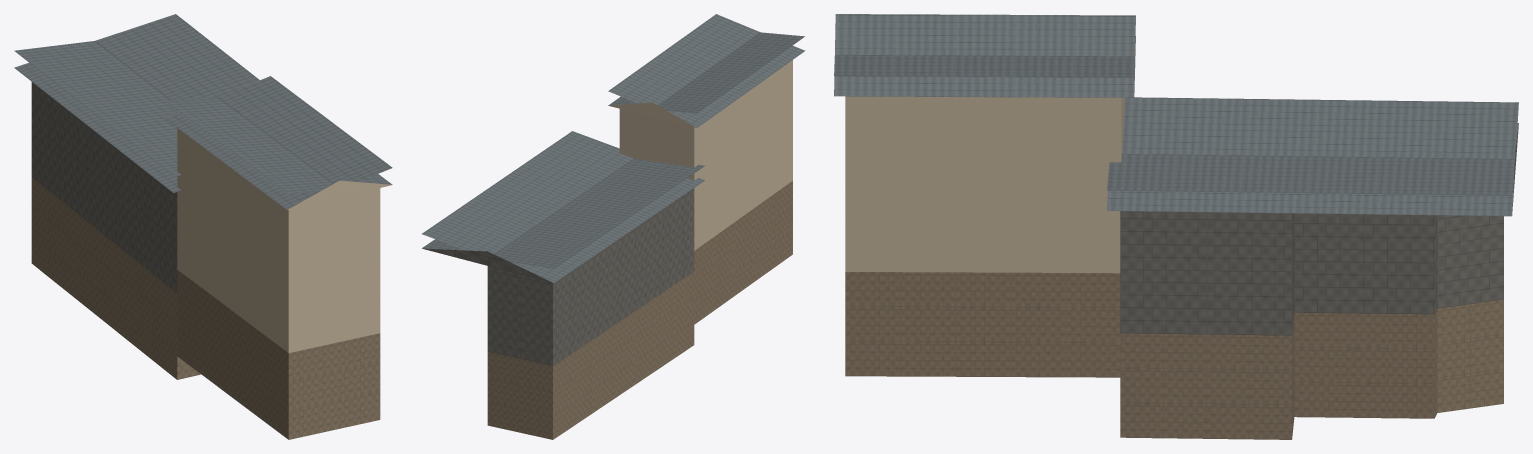
The model's file is bld_c33_-38_448.gltf.
3 renders of one model, left to right at view 1: azimuth 30°, elevation 25°; view 2: azimuth 150°, elevation 25°; view 3: azimuth 270°, elevation 25°, orthographic. The views are drawn at different scales.
Visible parts, largest first — view 1: bld_c33_-38_448; view 2: bld_c33_-38_448; view 3: bld_c33_-38_448.
Boxes of the visible parts, x1,y1,x2,y2 form: bld_c33_-38_448: (14, 14, 392, 439); bld_c33_-38_448: (422, 14, 805, 439); bld_c33_-38_448: (834, 14, 1518, 439).
Bounding box in the file's own units: 10.47 × 16.3 × 30.32.
6 materials, 6 textured.
